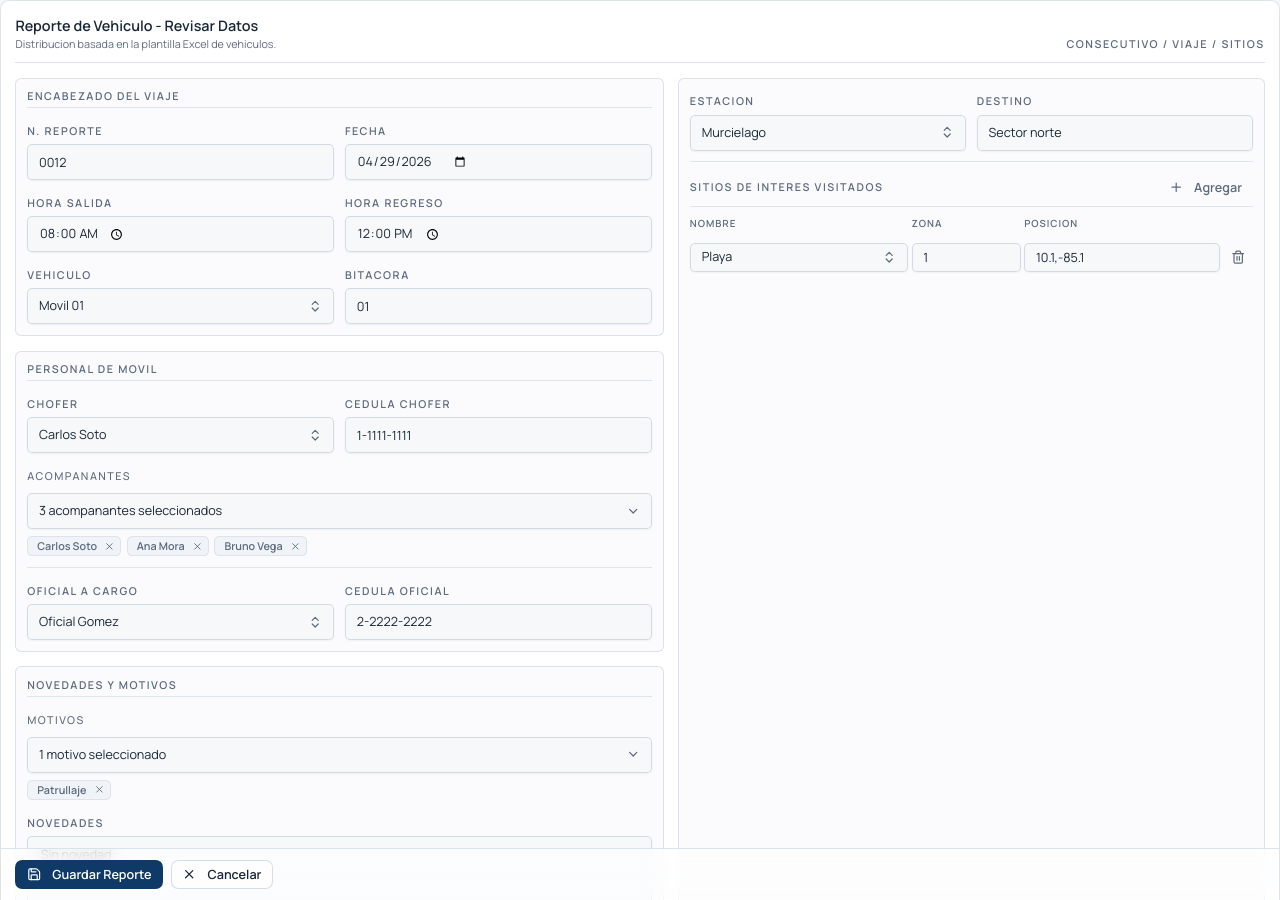
Test case: VehicleReportForm › removes only the clicked acompanante when the chofer is already listed
This screenshot has width=1280, height=900.
Click the button named "Quitar Ana Mora". click: (197, 546)
box: [190,539,204,553]
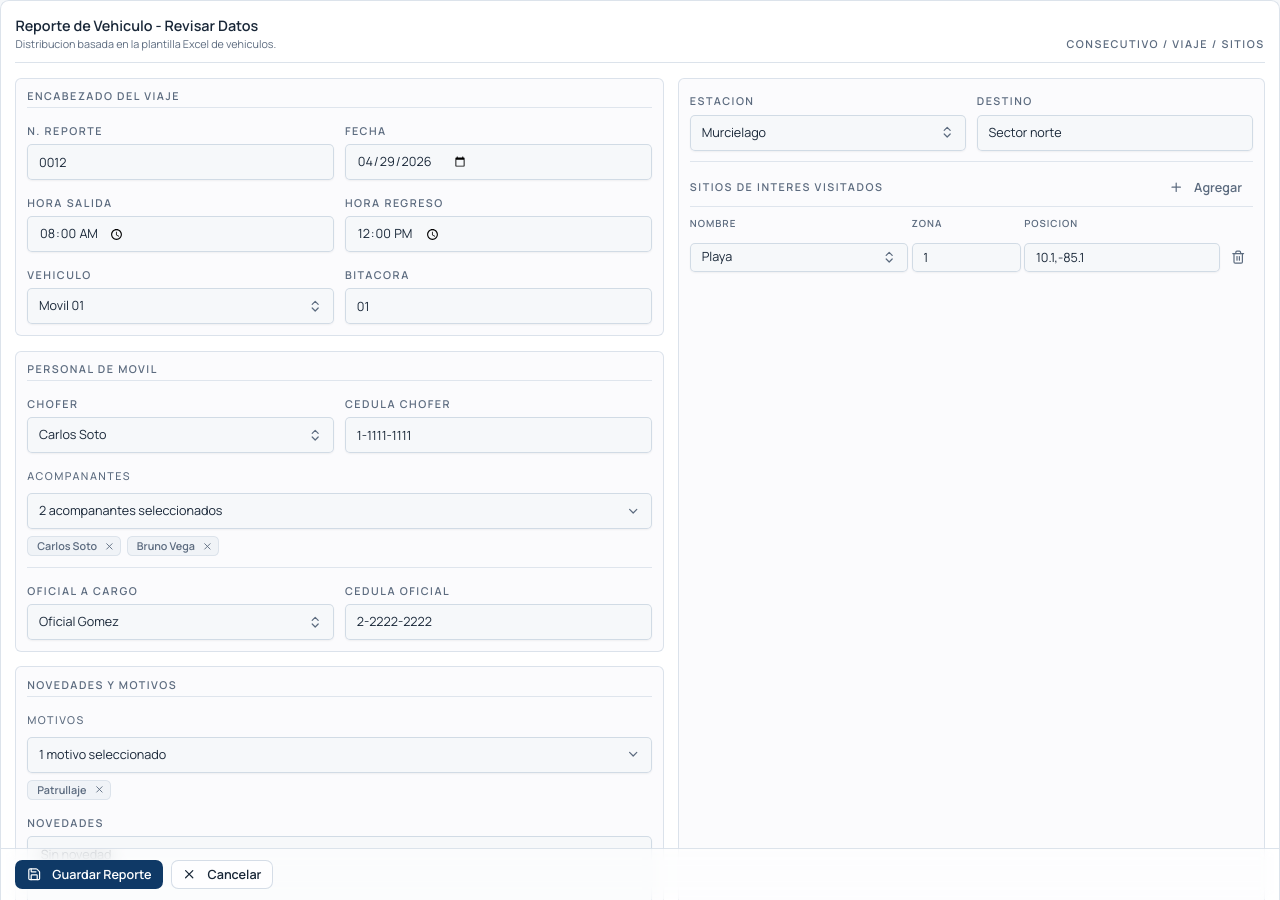
Check: the button named "Quitar Carlos Soto" is shown, box [102,539,117,553]
Check: the button "2 acompanantes seleccionados" is shown, box [27,493,652,529]
